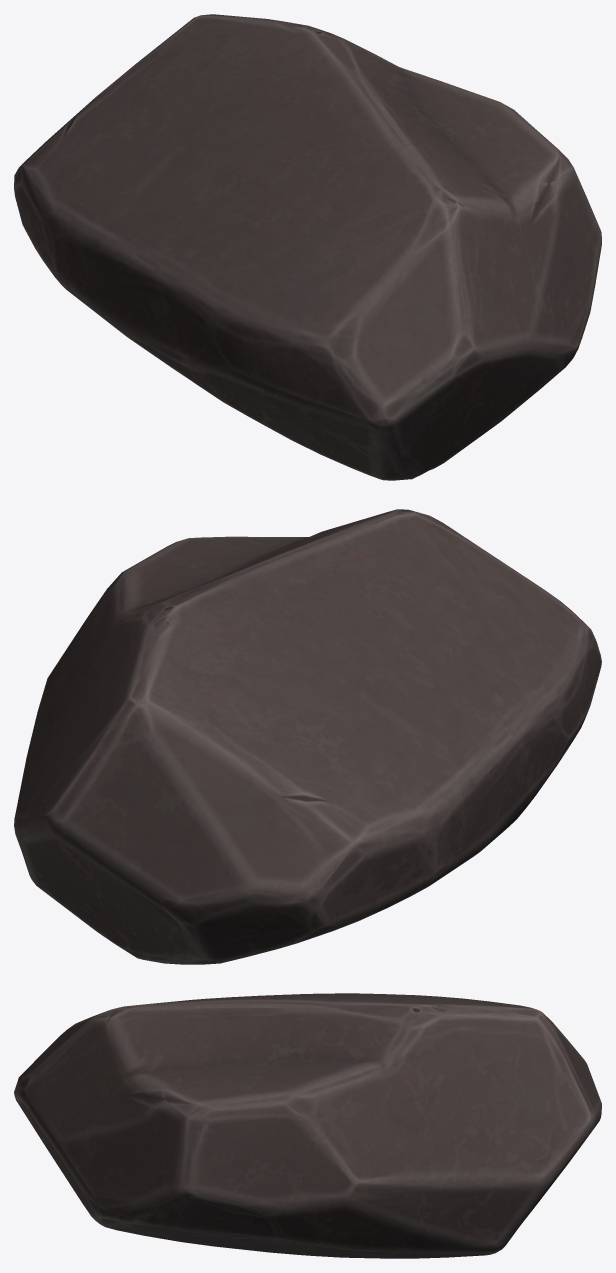
The model's file is obsidian_cracked_a.glb.
3 views of the same model, one above another, from view 1: azimuth 30°, elevation 25°; view 2: azimuth 150°, elevation 25°; view 3: azimuth 270°, elevation 25° (orthographic). The views are drawn at different scales.
Parts seen in each view (by area): view 1: SM_KC_Base_Stone_Small_01_A; view 2: SM_KC_Base_Stone_Small_01_A; view 3: SM_KC_Base_Stone_Small_01_A.
Boxes of the visible parts, <box> form: SM_KC_Base_Stone_Small_01_A: <box>14,14,601,480</box>; SM_KC_Base_Stone_Small_01_A: <box>14,509,601,964</box>; SM_KC_Base_Stone_Small_01_A: <box>14,993,601,1258</box>.
Size of the model in its own units: 0.3031 by 0.2145 by 0.4366.
1 material, 1 textured.
